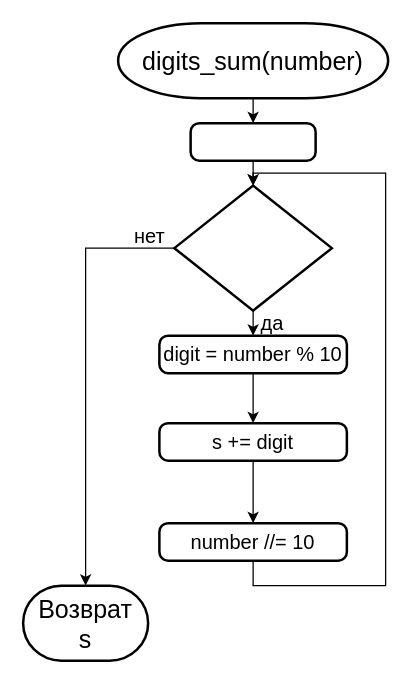
This 418x683 diagram has some shape labels left out. Each missing label, with the centre of its shape:
"number > 0 ?" belongs at (x=252, y=247).
"s = 0" belongs at (x=252, y=141).
